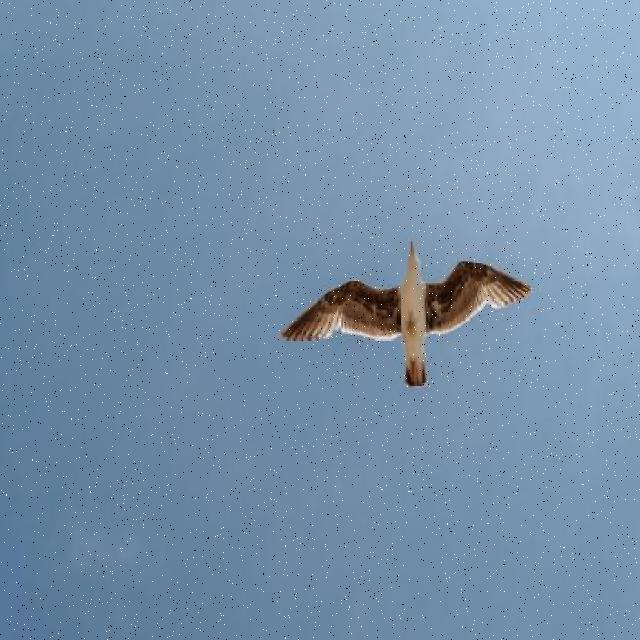bird: (283, 236, 532, 390)
